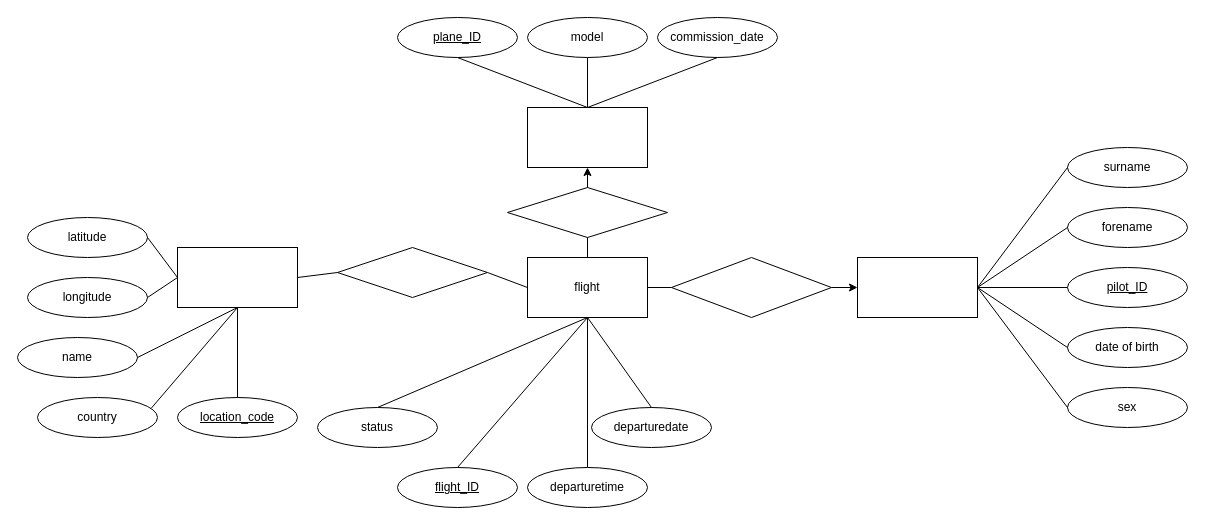
The diagram is 1205 pixels wide and 525 high, and some of its shapes have lost their labels. The shapes that lost their labels are listed below. From the top down, each one's centre as x and y in pixels, then its label:
At (x=587, y=137): "plane".
At (x=587, y=212): "is with".
At (x=237, y=277): "destination/origin".
At (x=412, y=272): "has".
At (x=751, y=287): "captains".
At (x=917, y=287): "pilot".
